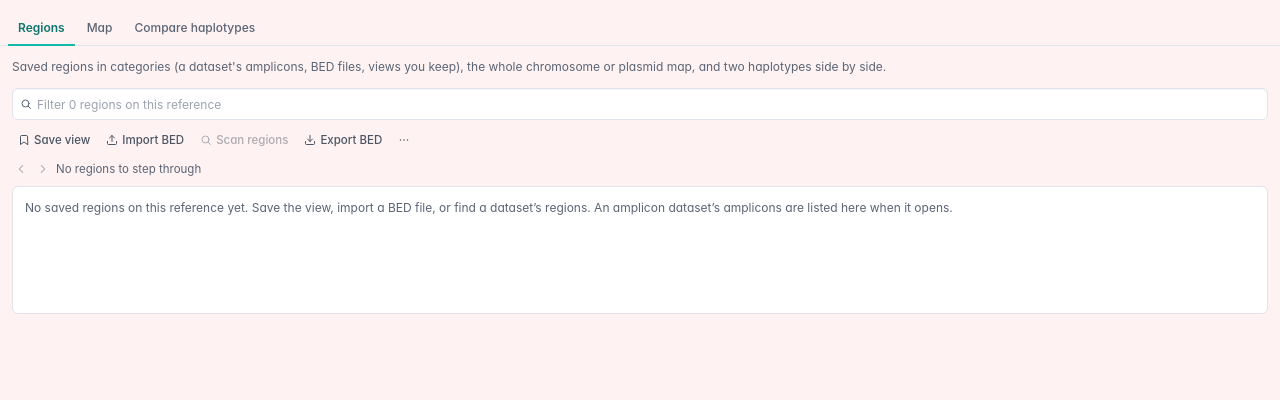
Regions panel: zoom window and haplotype entry points › draws the zoom window as a map of named genes with the view marked, and no lens
The width and height of the screenshot is (1280, 400).
Expected: the element with test id "region-catalog" is shown, top-left (12, 88), bottom-right (1268, 314)
Expected: the button with test id "region-save-view" is shown, top-left (12, 128), bottom-right (96, 152)
Click the button "Map".
click(100, 29)  # box top-left (77, 12), bottom-right (122, 46)
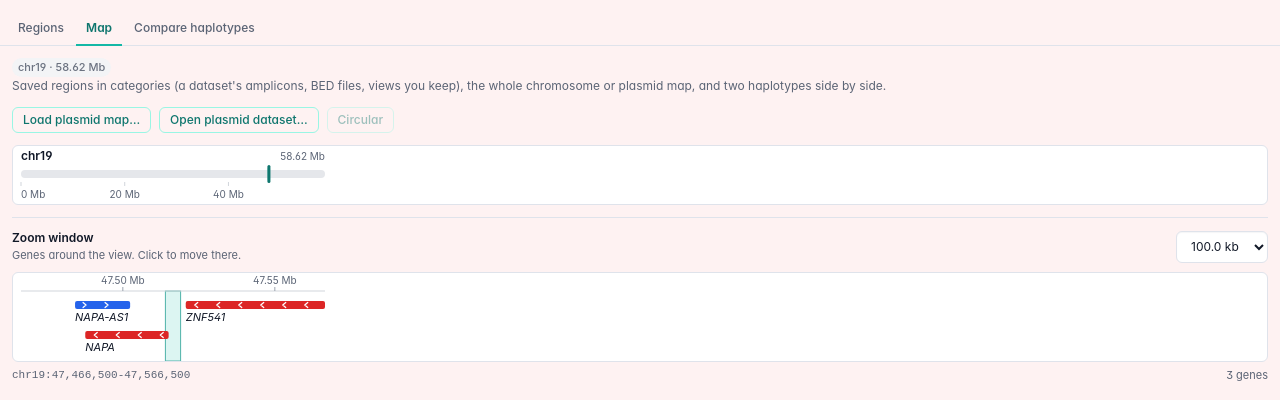
Expected: the element with test id "regions-zoom-view" is shown, top-left (165, 290), bottom-right (181, 360)
Expected: the icon "47.50 Mb 47.55 Mb NAPA-AS1 NAPA ZNF541" is shown, top-left (13, 272), bottom-right (333, 360)
Expected: the text with test id "regions-zoom-count" reads "3 genes", top-left (1226, 366), bottom-right (1268, 384)
